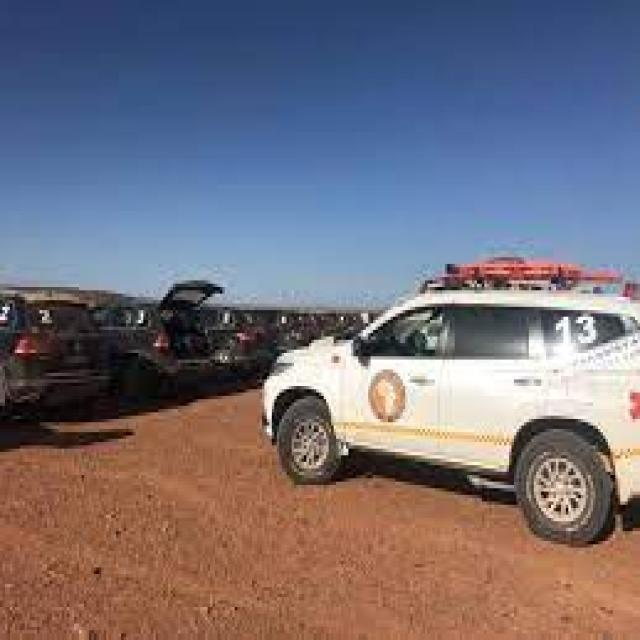ambulance: (247, 240, 640, 564)
